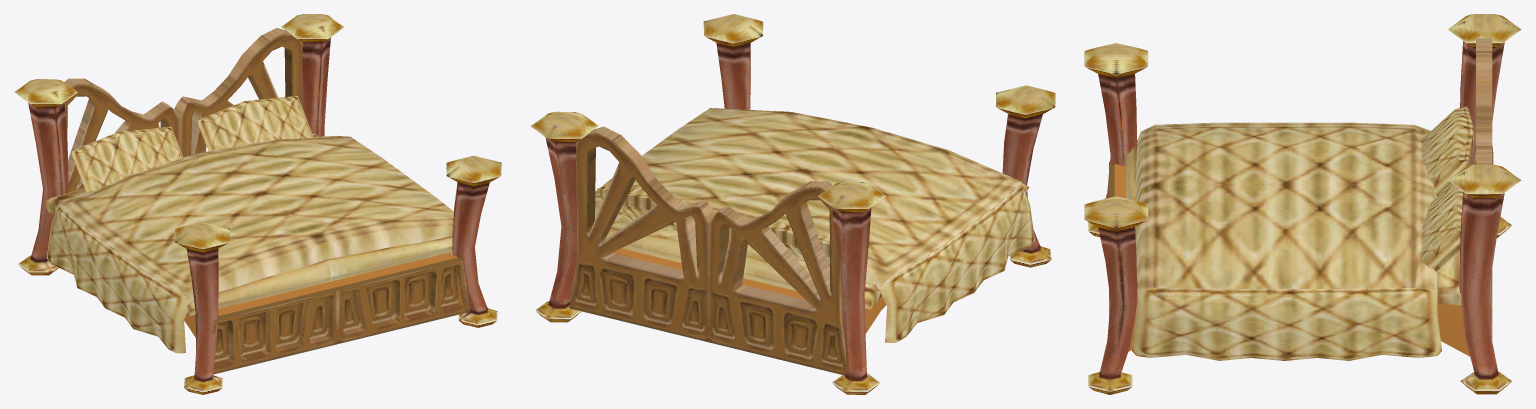
Rendered from bed33_1.glb.
The picture shows the model from 3 angles, left to right: view 1: azimuth 30°, elevation 25°; view 2: azimuth 150°, elevation 25°; view 3: azimuth 270°, elevation 25°; orthographic projection. The views are drawn at different scales.
Visible parts, largest first — view 1: bed33_1; view 2: bed33_1; view 3: bed33_1.
Boxes of the visible parts, <box> form: bed33_1: <box>14,14,501,394</box>; bed33_1: <box>530,14,1055,394</box>; bed33_1: <box>1084,14,1521,394</box>.
Size of the model in its own units: 479 by 260 by 479.
4 materials, 4 textured.
